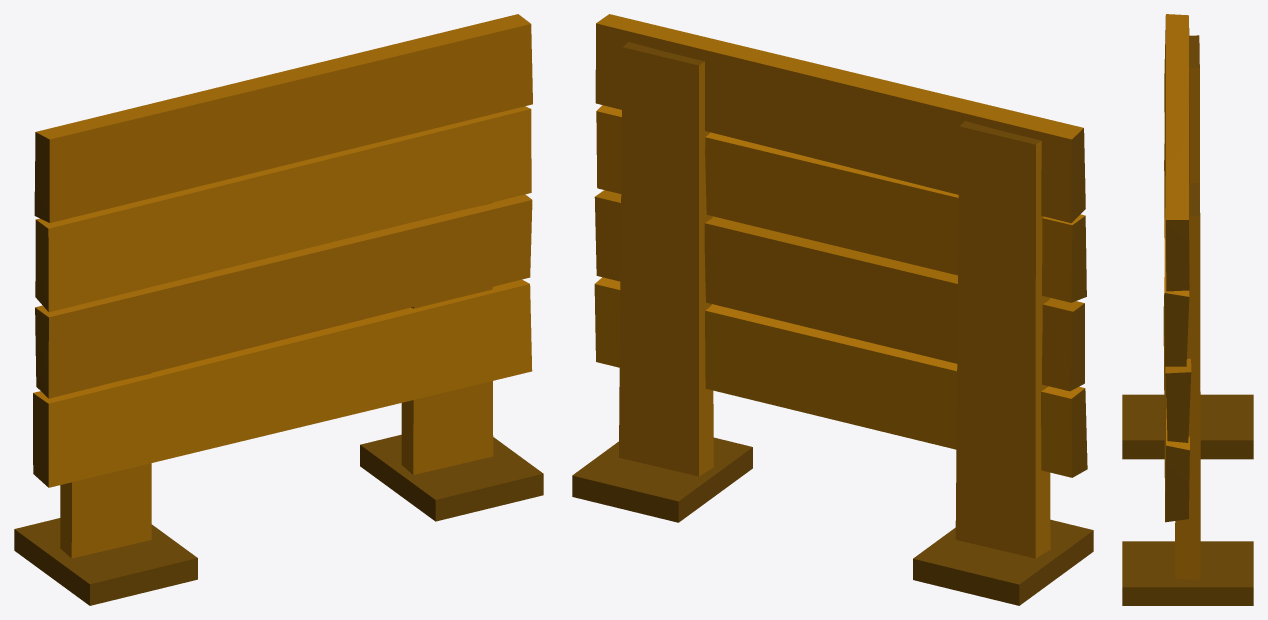
Rendered from sign.glb.
The picture shows the model from 3 angles, left to right: view 1: azimuth 30°, elevation 25°; view 2: azimuth 150°, elevation 25°; view 3: azimuth 270°, elevation 25°; orthographic projection. The views are drawn at different scales.
Parts seen in each view (by area): view 1: Table; view 2: Table; view 3: Table.
Boxes of the visible parts, box(x1,y1,x2,y2) form: Table: box(14, 14, 543, 605); Table: box(572, 14, 1093, 605); Table: box(1122, 14, 1253, 605).
Size of the model in its own units: 0.6127 by 0.5443 by 0.1649.
